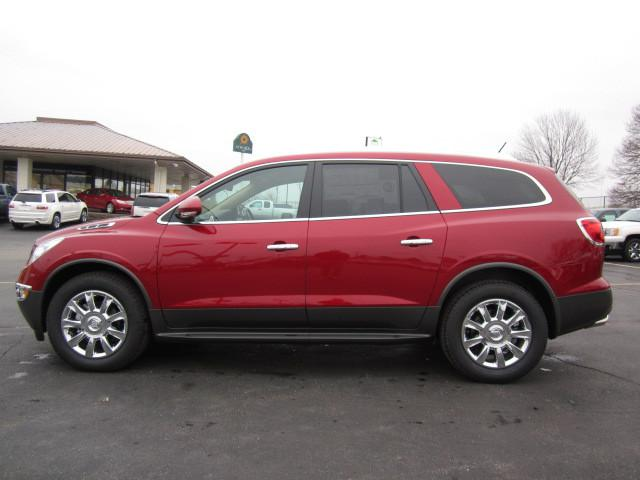Car: (4, 146, 614, 411), (2, 175, 93, 248), (77, 176, 145, 228)
